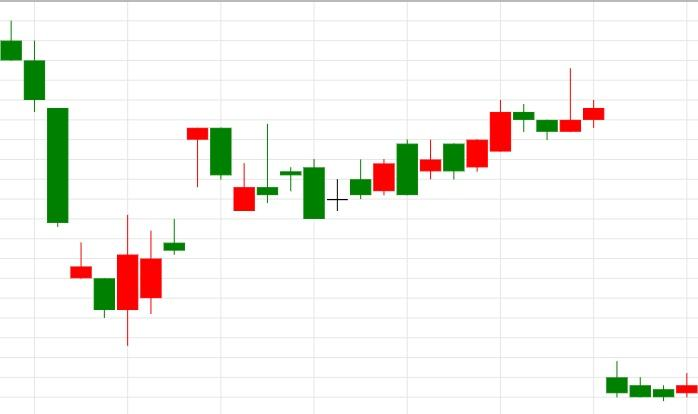bearish_engulfing_fall: (303, 140, 419, 220)
bullish_engulfing_rise: (0, 20, 140, 346)
